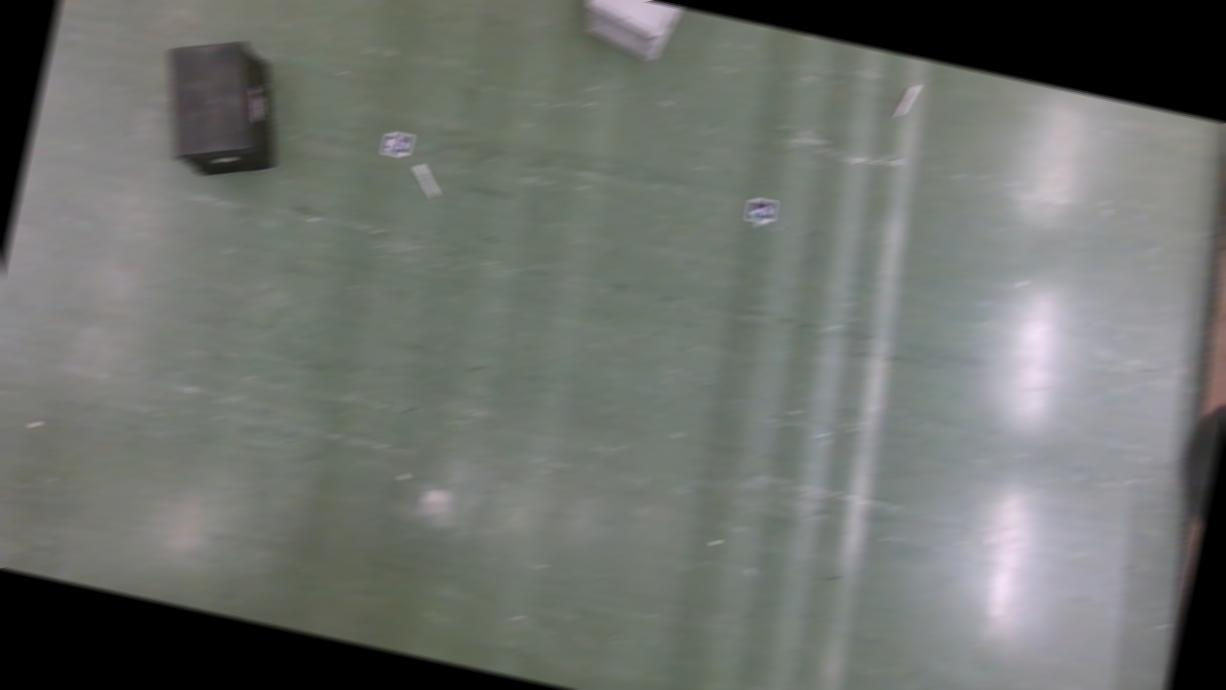probes: (409, 164, 442, 199), (896, 82, 919, 120)
rako: (144, 29, 298, 192), (577, 0, 681, 65)
